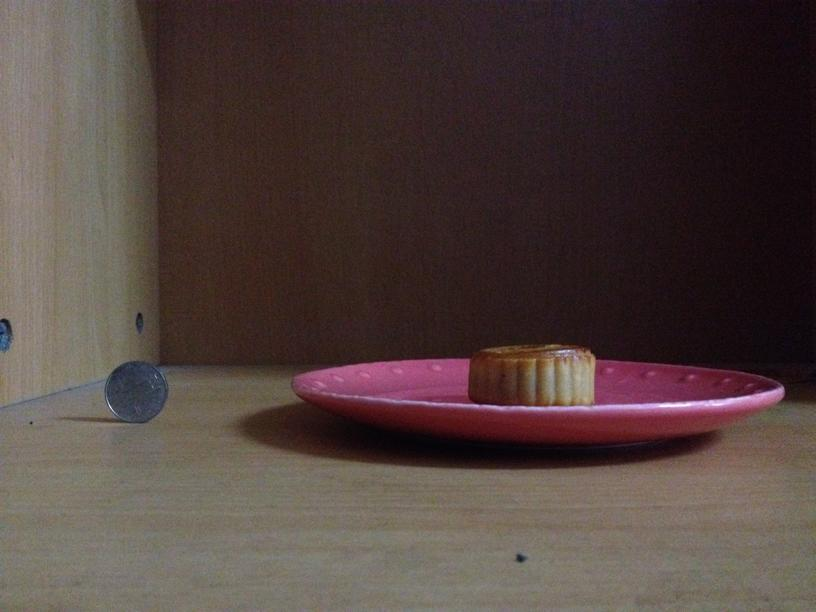coin: (105, 360, 167, 423)
mooncake: (469, 340, 597, 406)
